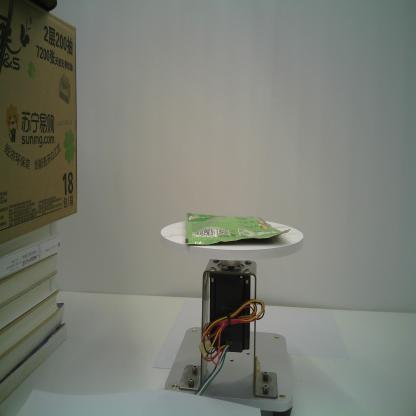Seasoner: (185, 211, 292, 245)
